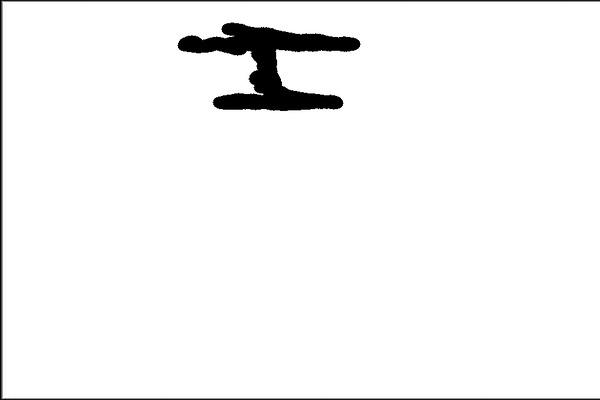i: (174, 17, 361, 115)
